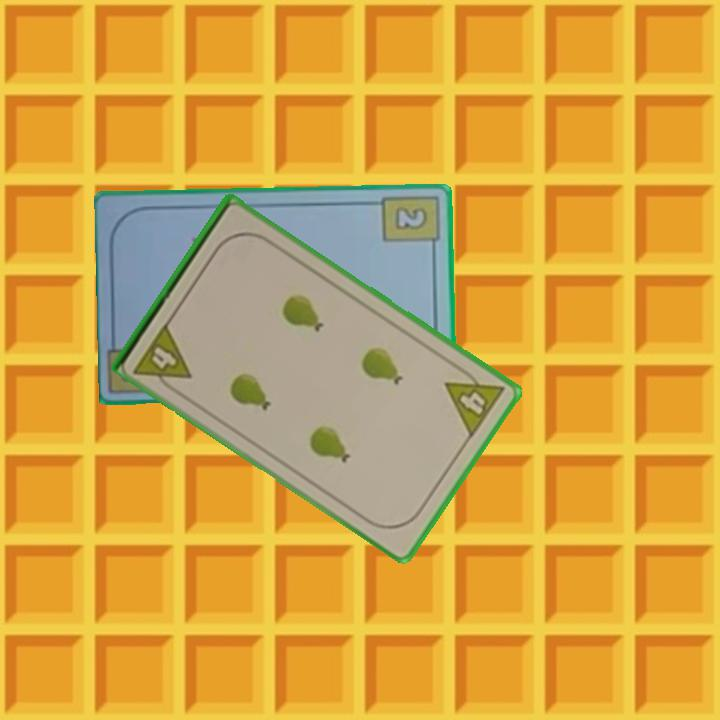2b: (379, 191, 441, 256)
4p: (441, 361, 508, 441), (130, 318, 195, 397)
